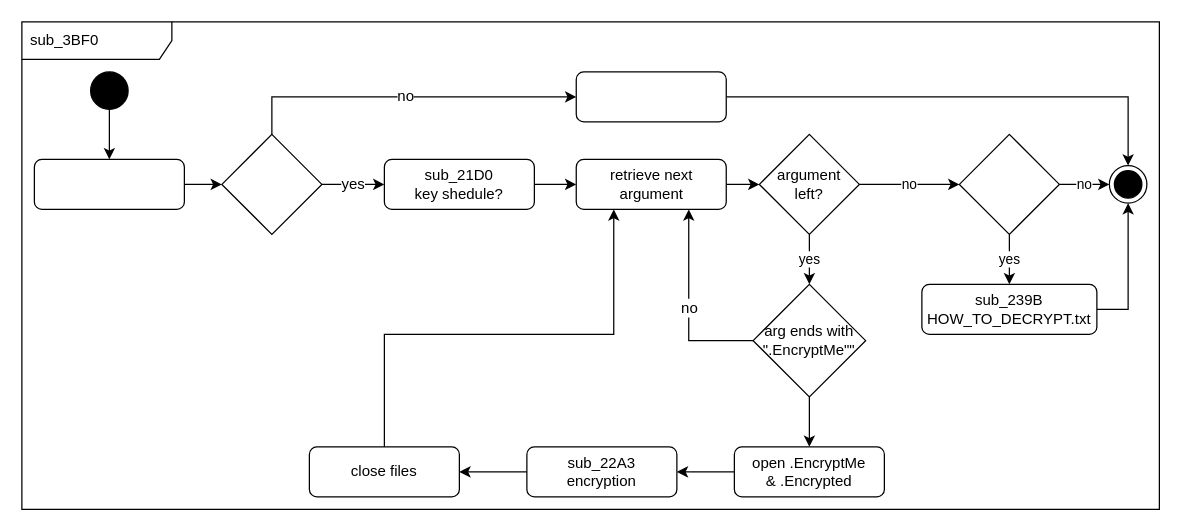
The diagram is 1181 pixels wide and 531 high, and some of its shapes have lost their labels. Here are the shapes that lost their labels. From the top down, the centre of each, then its label:
At point 650,96: "print usage".
At point 108,183: "get address of RtlGenRandom".
At point 271,183: "supplied argument?".
At point 1008,183: "encrypted any file?".
